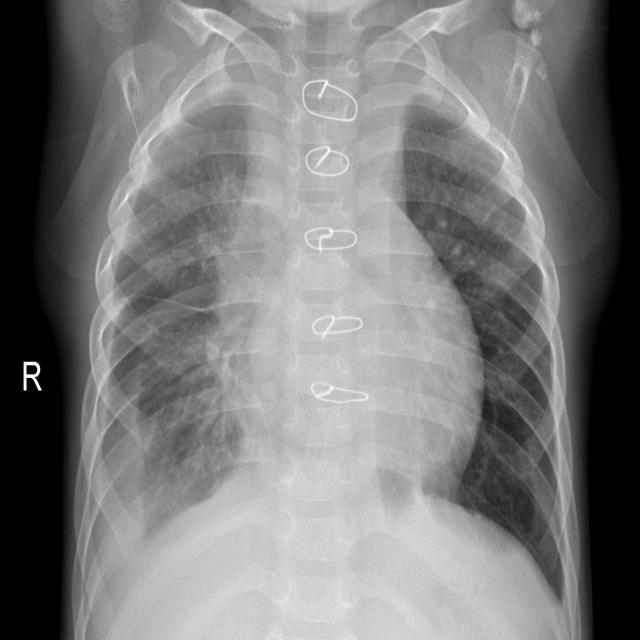bacterial_pneumonia: (1, 0, 640, 640), (0, 0, 629, 640)
